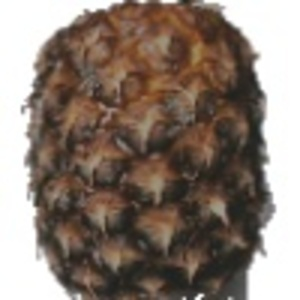abacaxi: (19, 2, 275, 293)
